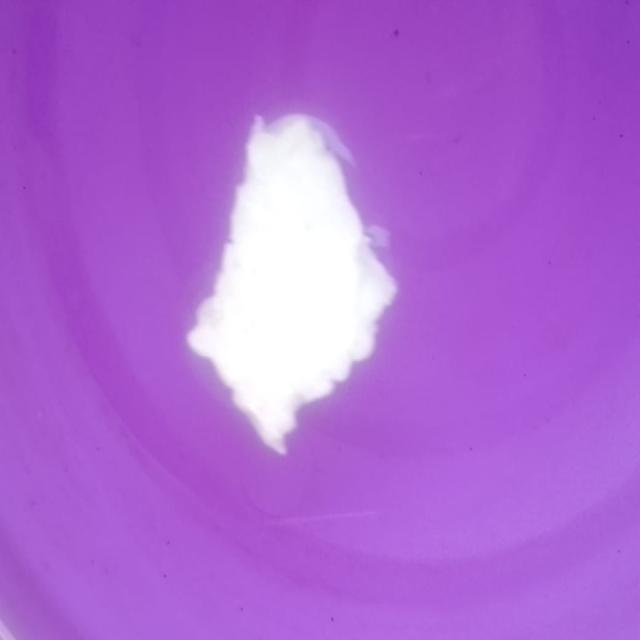thermocoal: (178, 100, 410, 467)
